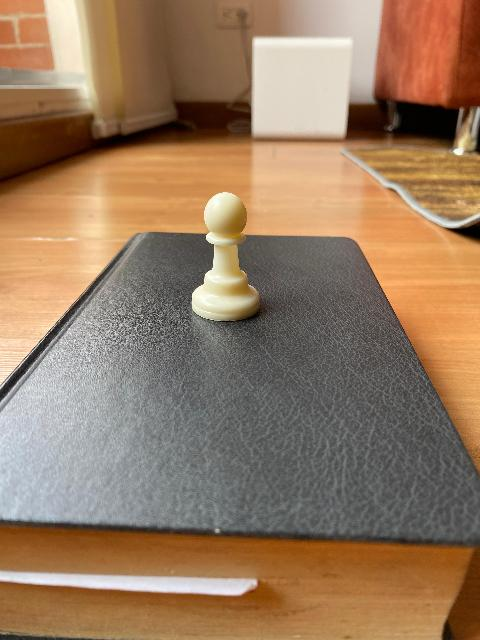white-pawn: (190, 190, 262, 322)
